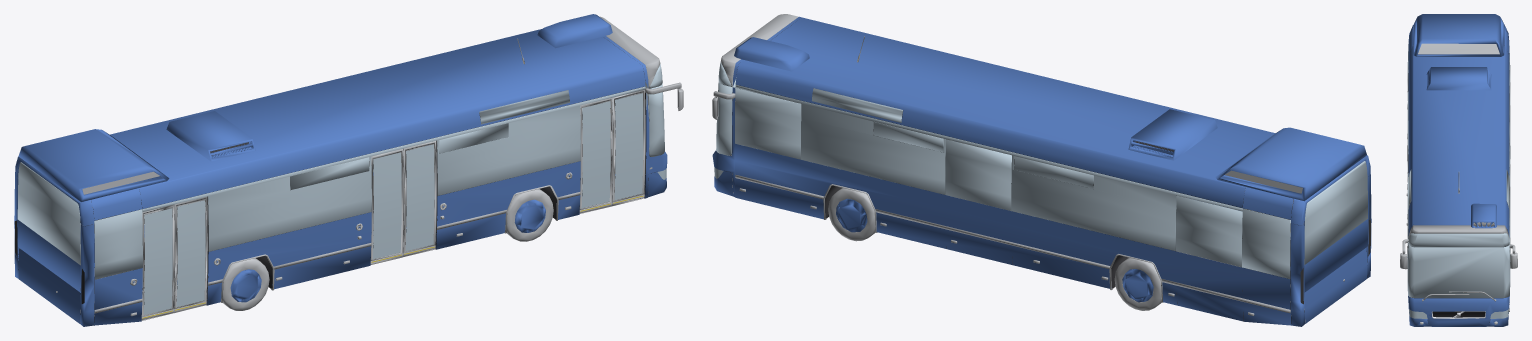
File: archmodels55-13.glb
3 renders of one model, left to right at view 1: azimuth 30°, elevation 25°; view 2: azimuth 150°, elevation 25°; view 3: azimuth 270°, elevation 25°, orthographic. The views are drawn at different scales.
Parts seen in each view (by area): view 1: Archmodels55_13_carpaint, Archmodels55_13_glass, Archmodels55_13_details, Archmodels55_13_tire, Archmodels55_13_black, Archmodels55_13_front_details, Archmodels55_13_chrome2; view 2: Archmodels55_13_carpaint, Archmodels55_13_glass, Archmodels55_13_details, Archmodels55_13_tire, Archmodels55_13_front_details, Archmodels55_13_black; view 3: Archmodels55_13_carpaint, Archmodels55_13_glass, Archmodels55_13_front_details, Archmodels55_13_details, Archmodels55_13_black, Archmodels55_13_lights_glass, Archmodels55_13_chrome2.
Part boxes in pixels (x1,y1,x2,y2): Archmodels55_13_carpaint: [14, 14, 667, 326]; Archmodels55_13_glass: [17, 64, 664, 314]; Archmodels55_13_details: [56, 90, 652, 316]; Archmodels55_13_tire: [221, 189, 553, 310]; Archmodels55_13_black: [14, 40, 658, 325]; Archmodels55_13_front_details: [517, 16, 683, 110]; Archmodels55_13_chrome2: [141, 194, 644, 320]; Archmodels55_13_carpaint: [712, 16, 1371, 326]; Archmodels55_13_glass: [716, 62, 1367, 278]; Archmodels55_13_details: [735, 170, 1344, 315]; Archmodels55_13_tire: [828, 188, 1161, 310]; Archmodels55_13_front_details: [712, 14, 864, 119]; Archmodels55_13_black: [723, 25, 1370, 323]; Archmodels55_13_carpaint: [1407, 14, 1509, 326]; Archmodels55_13_glass: [1407, 44, 1510, 297]; Archmodels55_13_front_details: [1400, 172, 1517, 301]; Archmodels55_13_details: [1407, 43, 1510, 304]; Archmodels55_13_black: [1407, 31, 1508, 326]; Archmodels55_13_lights_glass: [1409, 309, 1508, 318]; Archmodels55_13_chrome2: [1431, 311, 1485, 318].
Bounding box in the file's own units: 12.55 × 3.5 × 2.95.
